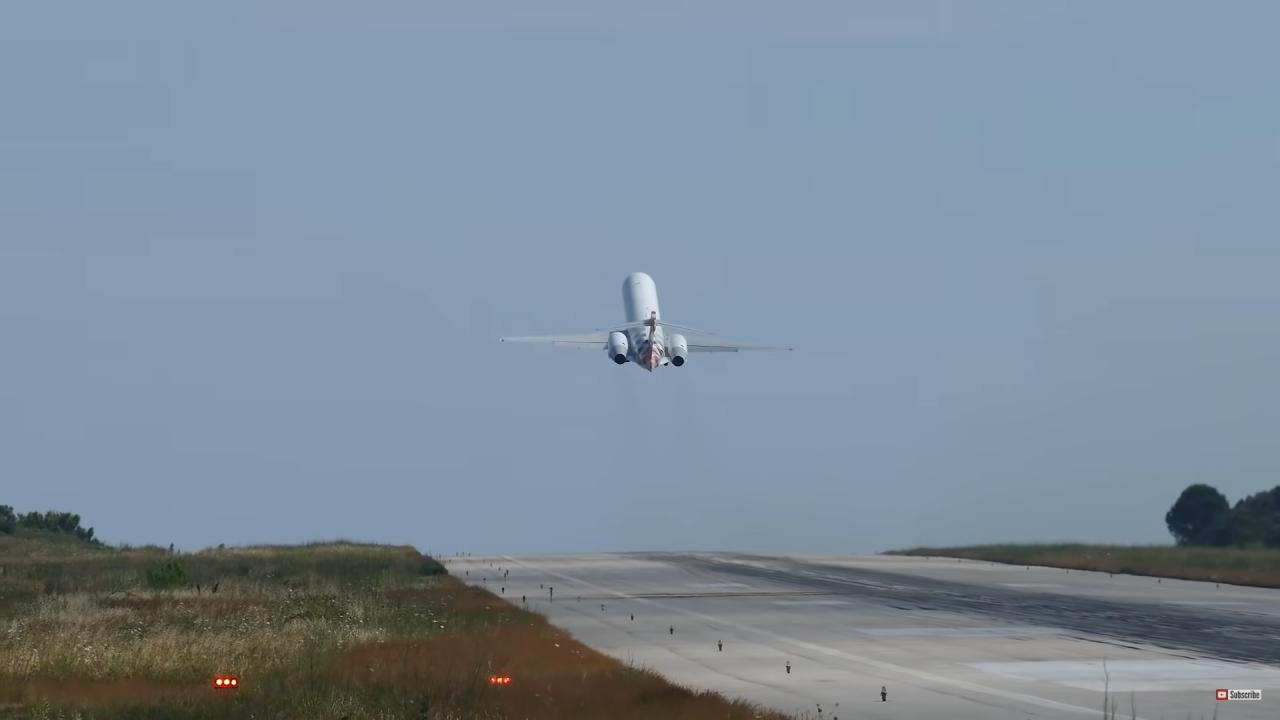Airplane: (488, 258, 808, 384)
